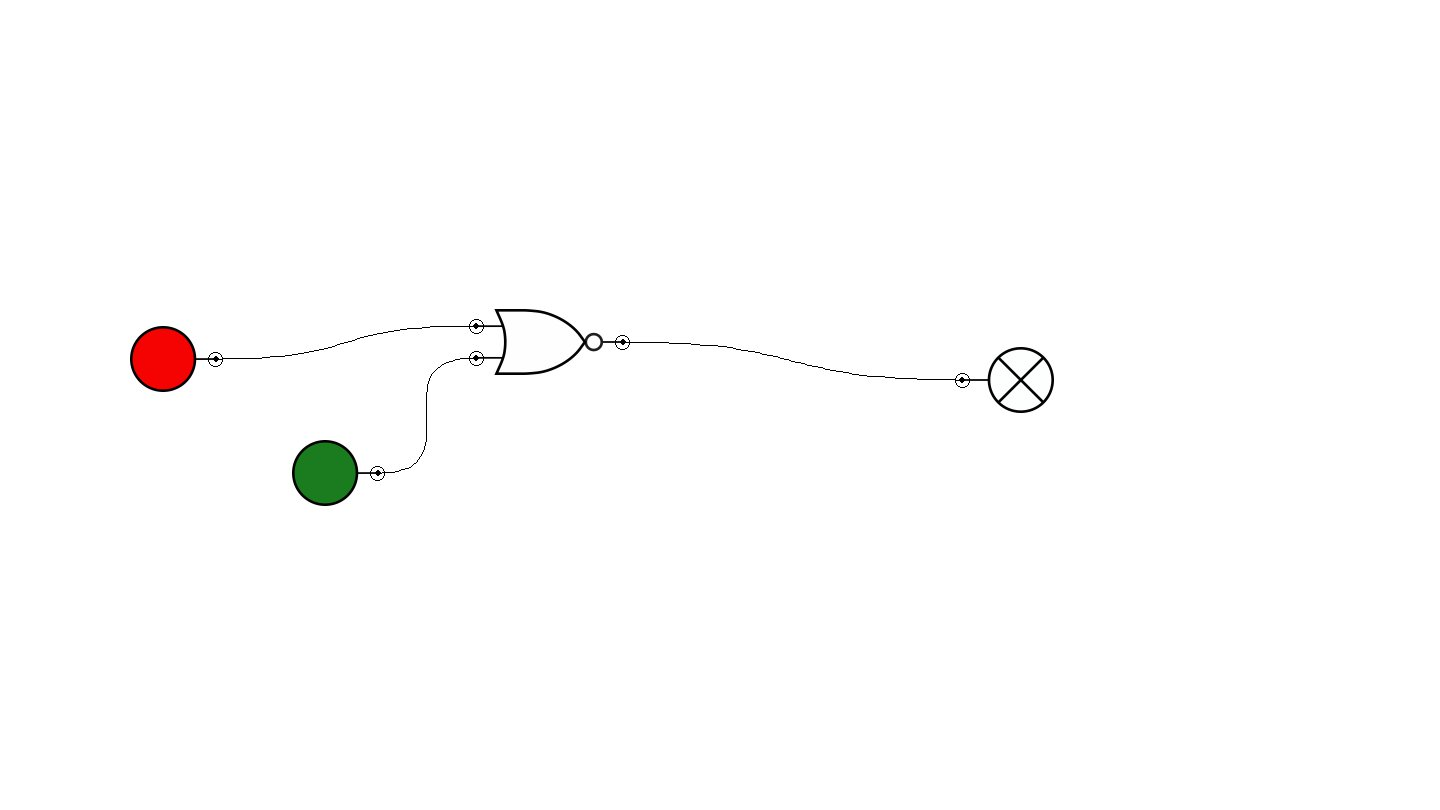bulb: (955, 347, 1054, 413)
nor: (469, 309, 630, 375)
switch_False: (130, 326, 223, 392)
switch_True: (292, 440, 385, 506)
